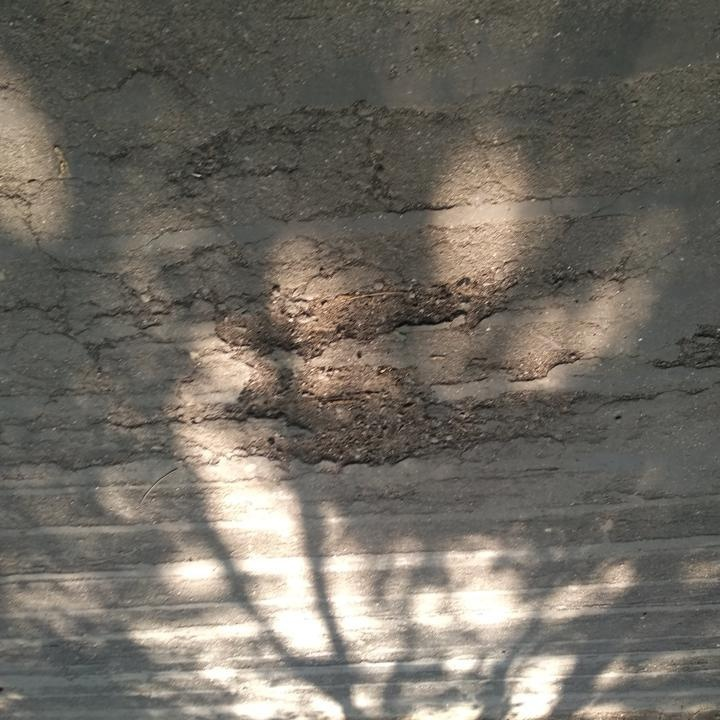pothole: (224, 360, 487, 469), (209, 264, 508, 358)
